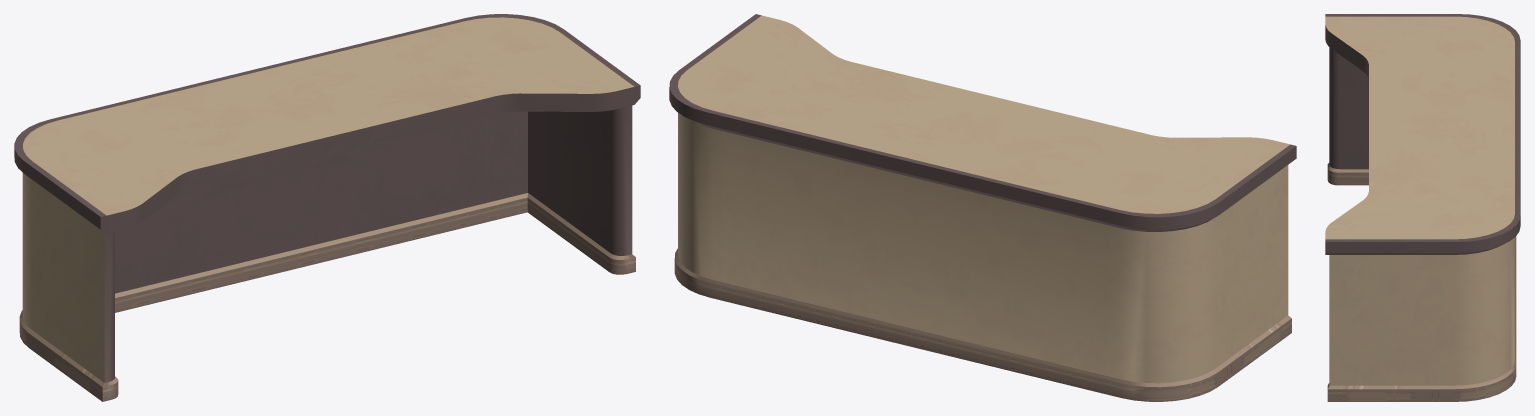
The model's file is Prop_Desk_Medium.gltf.
3 renders of one model, left to right at view 1: azimuth 30°, elevation 25°; view 2: azimuth 150°, elevation 25°; view 3: azimuth 270°, elevation 25°, orthographic. The views are drawn at different scales.
Parts seen in each view (by area): view 1: Prop_Desk_Medium; view 2: Prop_Desk_Medium; view 3: Prop_Desk_Medium.
Part boxes in pixels (x1,y1,x2,y2): Prop_Desk_Medium: (14, 14, 640, 401); Prop_Desk_Medium: (669, 14, 1296, 401); Prop_Desk_Medium: (1325, 14, 1520, 401).
Bounding box in the file's own units: 2.84 × 0.9396 × 1.03.
Materials: 3 (3 with a texture image).
